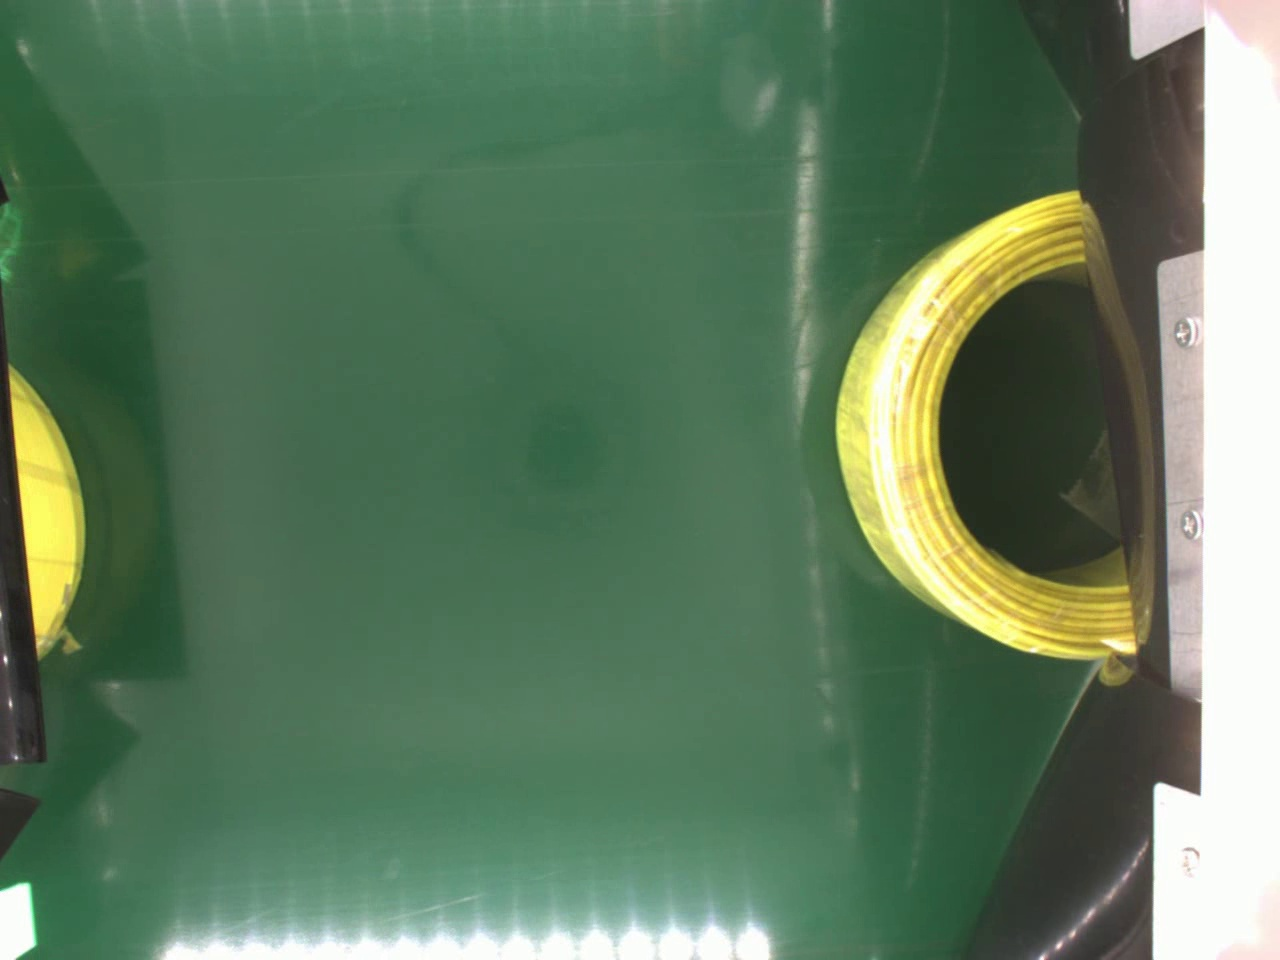yellow: (835, 187, 1136, 666)
